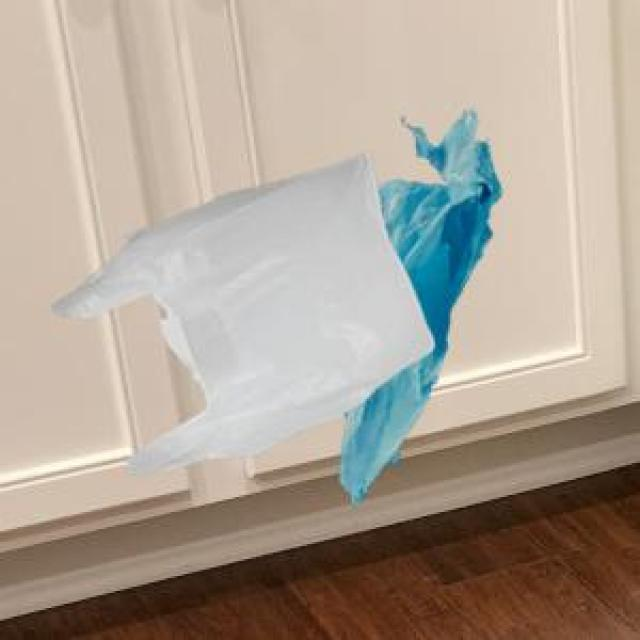waste: (52, 109, 502, 502)
